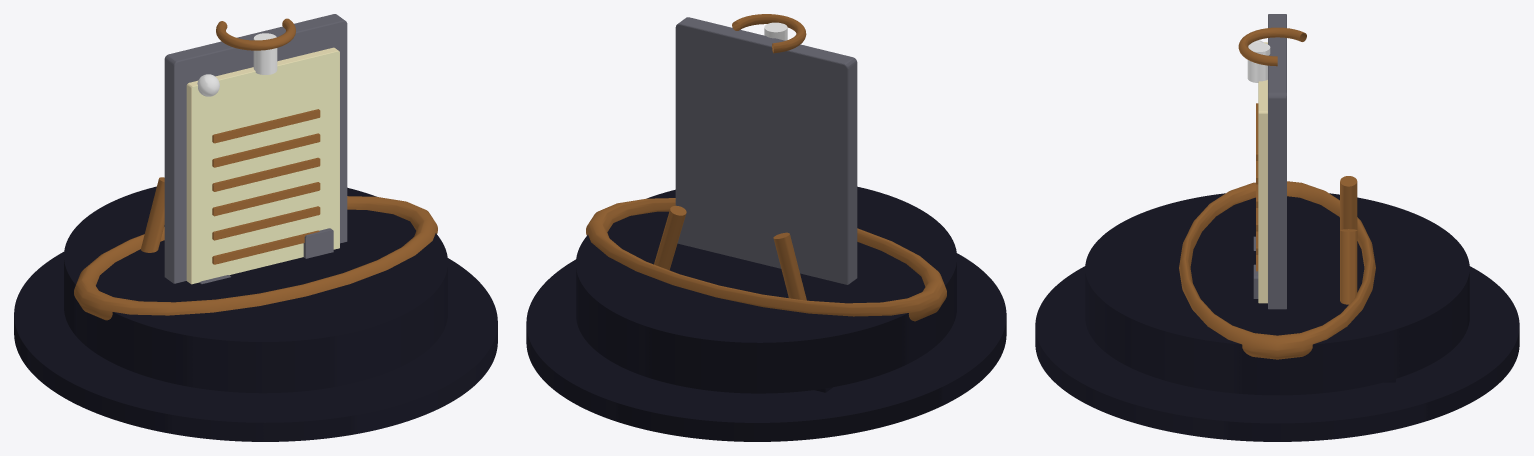
Rendered from 0870_生活中的数学图鉴_蜂巢蜜.glb.
3 views of the same model, side by side, from view 1: azimuth 30°, elevation 25°; view 2: azimuth 150°, elevation 25°; view 3: azimuth 270°, elevation 25° (orthographic). The views are drawn at different scales.
Parts seen in each view (by area): view 1: card_0870; view 2: card_0870; view 3: card_0870.
Boxes of the visible parts, box(x1,y1,x2,y2) form: card_0870: box(14, 14, 497, 441); card_0870: box(526, 14, 1006, 441); card_0870: box(1035, 14, 1519, 441).
Bounding box in the file's own units: 1.39 × 1 × 1.45.
